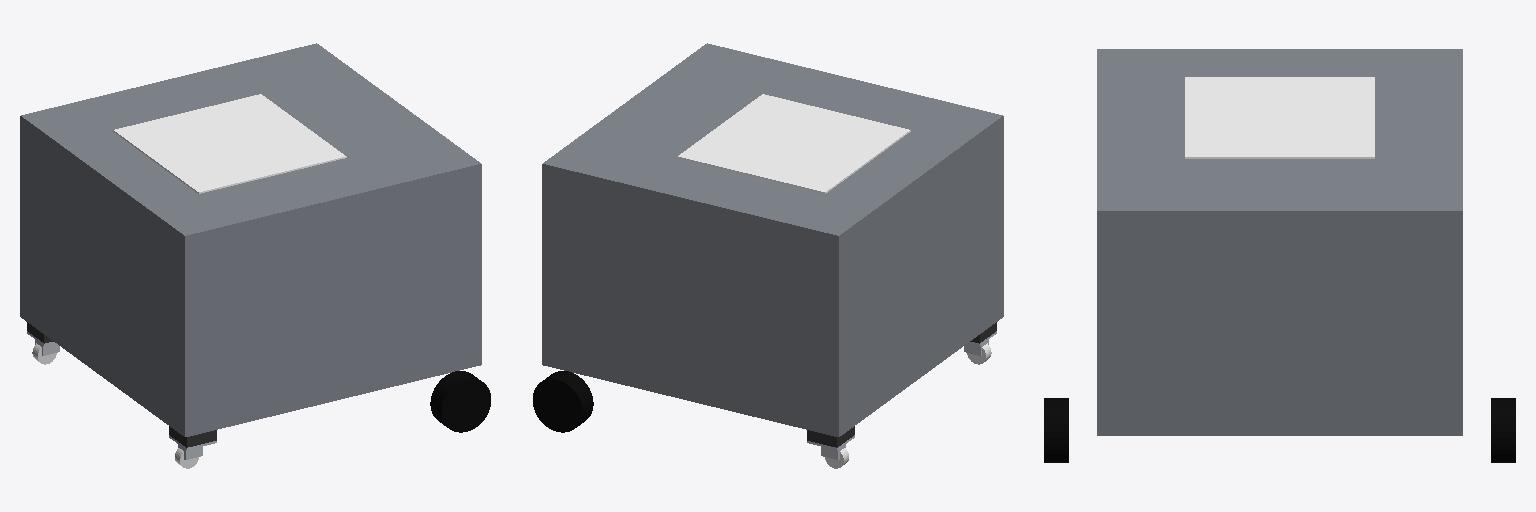
URDF robot description (robot_gom_bong):
<?xml version="1.0"?>
<!--
  Robot gom bong - differential drive, 2 banh chu dong o DAU, 2 banh tu xoay o CUOI.
  Quy uoc ROS: x = tien, y = trai, z = len. Don vi: m, kg, rad.

  base_link dat tren MAT SAN, ngay duoi trung diem truc 2 banh chu dong (= tam xoay).
  => Toa do (x, y, yaw) tu ArUco / odometry chinh la pose cua base_link.

  THONG SO DO THUC TE:
    Than xe        : dai 0.385 (x) x rong 0.37 (y) x cao 0.25
    Tong chieu cao : 0.30 tu mat dat -> day than cach san 0.05
    Banh chu dong  : phi 65 mm (R = 0.0325), rong 0.025
    Khoang cach tam 2 banh (track) L = 0.45 -> banh nam ngoai than, tong be ngang = 0.475

  THONG SO CON GIA DINH (can do lai):
    Truc banh cach mep truoc than 0.05 -> than xe tu x=+0.05 den x=-0.335
    Banh tu xoay co cang: banh phi 25 mm, tong cao 34 mm (do thuc te); gia dinh rong 12 mm, trail 8 mm,
    ke them mieng dem 16 mm duoi de (34 + 16 = 50 mm khe ho gam); de tai x=-0.31, y=+-0.16
    IMU tai (0, 0, 0.08); ArUco 0.192 x 0.192 tren noc, cach truc banh 17 cm ve sau (x = -0.17)
    Khoi luong: than 3.0 kg, moi banh 0.3 kg, moi banh tu xoay 0.05 kg
  R va L phai KHOP voi firmware ESP32 (dong hoc vi sai).
-->
<robot name="robot_gom_bong">

  <material name="body_gray"><color rgba="0.55 0.57 0.60 1"/></material>
  <material name="wheel_black"><color rgba="0.08 0.08 0.08 1"/></material>
  <material name="caster_white"><color rgba="0.90 0.90 0.90 1"/></material>
  <material name="caster_metal"><color rgba="0.75 0.77 0.80 1"/></material>
  <material name="spacer_dark"><color rgba="0.25 0.25 0.25 1"/></material>
  <material name="aruco_white"><color rgba="1 1 1 1"/></material>
  <material name="imu_blue"><color rgba="0.10 0.35 0.80 1"/></material>

  <!-- ===== THAN XE (gan vao base_link, lech ve phia sau tam xoay) ===== -->
  <link name="base_link">
    <visual>
      <origin xyz="-0.1425 0 0.175" rpy="0 0 0"/>
      <geometry><box size="0.385 0.37 0.25"/></geometry>
      <material name="body_gray"/>
    </visual>
    <collision>
      <origin xyz="-0.1425 0 0.175" rpy="0 0 0"/>
      <geometry><box size="0.385 0.37 0.25"/></geometry>
    </collision>
    <inertial>
      <origin xyz="-0.1425 0 0.175" rpy="0 0 0"/>
      <mass value="3.0"/>
      <!-- hop dac: I = m/12 * (a^2 + b^2) -->
      <inertia ixx="0.04985" ixy="0" ixz="0" iyy="0.05268" iyz="0" izz="0.07128"/>
    </inertial>
  </link>

  <!-- ===== BANH CHU DONG TRAI ===== -->
  <link name="left_wheel_link">
    <visual>
      <origin xyz="0 0 0" rpy="1.5708 0 0"/>
      <geometry><cylinder radius="0.0325" length="0.025"/></geometry>
      <material name="wheel_black"/>
    </visual>
    <collision>
      <origin xyz="0 0 0" rpy="1.5708 0 0"/>
      <geometry><cylinder radius="0.0325" length="0.025"/></geometry>
    </collision>
    <inertial>
      <mass value="0.3"/>
      <!-- truc quay = y: Iyy = m r^2 / 2 ; Ixx = Izz = m/12 (3r^2 + h^2) -->
      <inertia ixx="0.0000948" ixy="0" ixz="0" iyy="0.0001584" iyz="0" izz="0.0000948"/>
    </inertial>
  </link>
  <joint name="left_wheel_joint" type="continuous">
    <parent link="base_link"/>
    <child link="left_wheel_link"/>
    <origin xyz="0 0.225 0.0325" rpy="0 0 0"/>
    <axis xyz="0 1 0"/>
    <limit effort="2.0" velocity="25.0"/>
    <dynamics damping="0.01" friction="0.0"/>
  </joint>

  <!-- ===== BANH CHU DONG PHAI ===== -->
  <link name="right_wheel_link">
    <visual>
      <origin xyz="0 0 0" rpy="1.5708 0 0"/>
      <geometry><cylinder radius="0.0325" length="0.025"/></geometry>
      <material name="wheel_black"/>
    </visual>
    <collision>
      <origin xyz="0 0 0" rpy="1.5708 0 0"/>
      <geometry><cylinder radius="0.0325" length="0.025"/></geometry>
    </collision>
    <inertial>
      <mass value="0.3"/>
      <inertia ixx="0.0000948" ixy="0" ixz="0" iyy="0.0001584" iyz="0" izz="0.0000948"/>
    </inertial>
  </link>
  <joint name="right_wheel_joint" type="continuous">
    <parent link="base_link"/>
    <child link="right_wheel_link"/>
    <origin xyz="0 -0.225 0.0325" rpy="0 0 0"/>
    <axis xyz="0 1 0"/>
    <limit effort="2.0" velocity="25.0"/>
    <dynamics damping="0.01" friction="0.0"/>
  </joint>

  <!-- ===== BANH TU XOAY CO CANG (swivel caster) x 2, goc sau duoi than =====
       Caster that: banh phi 25 mm, tong cao 34 mm. Khe ho gam = 50 mm
       -> can mieng dem 16 mm (z = 0.034 .. 0.050) de 4 diem cham cung mat san.
       Moi caster: dem + de (fixed) -> cang (continuous, truc z) -> banh (continuous, truc y).
       Gia dinh: banh rong 12 mm, do lech truc (trail) 8 mm,
       tam de cach mep sau / mep hong 25 mm -> (x=-0.31, y=+-0.16). -->

  <!-- Caster trai -->
  <link name="left_caster_plate">
    <visual>
      <origin xyz="0 0 0.0015" rpy="0 0 0"/>
      <geometry><box size="0.040 0.040 0.003"/></geometry>
      <material name="caster_metal"/>
    </visual>
    <visual>
      <!-- mieng dem 16 mm giua de caster va day than -->
      <origin xyz="0 0 0.011" rpy="0 0 0"/>
      <geometry><box size="0.040 0.040 0.016"/></geometry>
      <material name="spacer_dark"/>
    </visual>
    <inertial>
      <mass value="0.02"/>
      <inertia ixx="1e-6" ixy="0" ixz="0" iyy="1e-6" iyz="0" izz="1e-6"/>
    </inertial>
  </link>
  <joint name="left_caster_plate_joint" type="fixed">
    <parent link="base_link"/>
    <child link="left_caster_plate"/>
    <origin xyz="-0.31 0.16 0.031" rpy="0 0 0"/>
  </joint>

  <link name="left_caster_fork">
    <visual>
      <origin xyz="-0.004 0 -0.009" rpy="0 0 0"/>
      <geometry><box size="0.022 0.018 0.018"/></geometry>
      <material name="caster_metal"/>
    </visual>
    <inertial>
      <origin xyz="-0.004 0 -0.009" rpy="0 0 0"/>
      <mass value="0.02"/>
      <inertia ixx="1e-6" ixy="0" ixz="0" iyy="1e-6" iyz="0" izz="1e-6"/>
    </inertial>
  </link>
  <joint name="left_caster_swivel_joint" type="continuous">
    <parent link="left_caster_plate"/>
    <child link="left_caster_fork"/>
    <origin xyz="0 0 0" rpy="0 0 0"/>
    <axis xyz="0 0 1"/>
    <dynamics damping="0.0005" friction="0.0"/>
  </joint>

  <link name="left_caster_wheel">
    <visual>
      <origin xyz="0 0 0" rpy="1.5708 0 0"/>
      <geometry><cylinder radius="0.0125" length="0.012"/></geometry>
      <material name="caster_white"/>
    </visual>
    <collision>
      <origin xyz="0 0 0" rpy="1.5708 0 0"/>
      <geometry><cylinder radius="0.0125" length="0.012"/></geometry>
    </collision>
    <inertial>
      <mass value="0.02"/>
      <inertia ixx="0.00000102" ixy="0" ixz="0" iyy="0.00000156" iyz="0" izz="0.00000102"/>
    </inertial>
  </link>
  <joint name="left_caster_wheel_joint" type="continuous">
    <parent link="left_caster_fork"/>
    <child link="left_caster_wheel"/>
    <!-- truc banh lech ra sau 8 mm (trail), tam banh o z = 0.0125 so voi san -->
    <origin xyz="-0.008 0 -0.0185" rpy="0 0 0"/>
    <axis xyz="0 1 0"/>
    <dynamics damping="0.0001" friction="0.0"/>
  </joint>

  <!-- Caster phai -->
  <link name="right_caster_plate">
    <visual>
      <origin xyz="0 0 0.0015" rpy="0 0 0"/>
      <geometry><box size="0.040 0.040 0.003"/></geometry>
      <material name="caster_metal"/>
    </visual>
    <visual>
      <!-- mieng dem 16 mm giua de caster va day than -->
      <origin xyz="0 0 0.011" rpy="0 0 0"/>
      <geometry><box size="0.040 0.040 0.016"/></geometry>
      <material name="spacer_dark"/>
    </visual>
    <inertial>
      <mass value="0.02"/>
      <inertia ixx="1e-6" ixy="0" ixz="0" iyy="1e-6" iyz="0" izz="1e-6"/>
    </inertial>
  </link>
  <joint name="right_caster_plate_joint" type="fixed">
    <parent link="base_link"/>
    <child link="right_caster_plate"/>
    <origin xyz="-0.31 -0.16 0.031" rpy="0 0 0"/>
  </joint>

  <link name="right_caster_fork">
    <visual>
      <origin xyz="-0.004 0 -0.009" rpy="0 0 0"/>
      <geometry><box size="0.022 0.018 0.018"/></geometry>
      <material name="caster_metal"/>
    </visual>
    <inertial>
      <origin xyz="-0.004 0 -0.009" rpy="0 0 0"/>
      <mass value="0.02"/>
      <inertia ixx="1e-6" ixy="0" ixz="0" iyy="1e-6" iyz="0" izz="1e-6"/>
    </inertial>
  </link>
  <joint name="right_caster_swivel_joint" type="continuous">
    <parent link="right_caster_plate"/>
    <child link="right_caster_fork"/>
    <origin xyz="0 0 0" rpy="0 0 0"/>
    <axis xyz="0 0 1"/>
    <dynamics damping="0.0005" friction="0.0"/>
  </joint>

  <link name="right_caster_wheel">
    <visual>
      <origin xyz="0 0 0" rpy="1.5708 0 0"/>
      <geometry><cylinder radius="0.0125" length="0.012"/></geometry>
      <material name="caster_white"/>
    </visual>
    <collision>
      <origin xyz="0 0 0" rpy="1.5708 0 0"/>
      <geometry><cylinder radius="0.0125" length="0.012"/></geometry>
    </collision>
    <inertial>
      <mass value="0.02"/>
      <inertia ixx="0.00000102" ixy="0" ixz="0" iyy="0.00000156" iyz="0" izz="0.00000102"/>
    </inertial>
  </link>
  <joint name="right_caster_wheel_joint" type="continuous">
    <parent link="right_caster_fork"/>
    <child link="right_caster_wheel"/>
    <origin xyz="-0.008 0 -0.0185" rpy="0 0 0"/>
    <axis xyz="0 1 0"/>
    <dynamics damping="0.0001" friction="0.0"/>
  </joint>

  <!-- ===== IMU MPU6050 ===== -->
  <link name="imu_link">
    <visual>
      <geometry><box size="0.021 0.016 0.003"/></geometry>
      <material name="imu_blue"/>
    </visual>
    <inertial>
      <mass value="0.005"/>
      <inertia ixx="1e-7" ixy="0" ixz="0" iyy="1e-7" iyz="0" izz="1e-7"/>
    </inertial>
  </link>
  <joint name="imu_joint" type="fixed">
    <parent link="base_link"/>
    <child link="imu_link"/>
    <origin xyz="0 0 0.08" rpy="0 0 0"/>
  </joint>

  <!-- ===== MA ArUco giua noc than xe (khop MARKER_OFFSET_MM trong config.py) ===== -->
  <link name="aruco_link">
    <visual>
      <geometry><box size="0.192 0.192 0.002"/></geometry>
      <material name="aruco_white"/>
    </visual>
    <inertial>
      <mass value="0.01"/>
      <inertia ixx="1e-6" ixy="0" ixz="0" iyy="1e-6" iyz="0" izz="1e-6"/>
    </inertial>
  </link>
  <joint name="aruco_joint" type="fixed">
    <parent link="base_link"/>
    <child link="aruco_link"/>
    <origin xyz="-0.17 0 0.301" rpy="0 0 0"/>
  </joint>

</robot>

--- Facts derived from the render (not from the file) ---
3 views of the same robot in one strip: view 1: azimuth 30°, elevation 25°; view 2: azimuth 150°, elevation 25°; view 3: azimuth 270°, elevation 25° (orthographic).
Model robot_gom_bong with 11 links and 10 joints (6 continuous, 4 fixed), rooted at base_link, posed all joints at 0.
Links seen in each view (by area): view 1: base_link, aruco_link, right_wheel_link, right_caster_plate; view 2: base_link, aruco_link, left_wheel_link, left_caster_plate; view 3: base_link, aruco_link, left_wheel_link, right_wheel_link.
Boxes of the visible links, <box> form: base_link: <box>20,43,481,436</box>; aruco_link: <box>113,94,346,193</box>; right_wheel_link: <box>430,371,490,432</box>; right_caster_plate: <box>169,426,216,449</box>; base_link: <box>542,43,1003,436</box>; aruco_link: <box>677,94,910,193</box>; left_wheel_link: <box>533,371,593,432</box>; left_caster_plate: <box>807,426,854,449</box>; base_link: <box>1097,49,1462,435</box>; aruco_link: <box>1185,77,1374,158</box>; left_wheel_link: <box>1491,398,1515,462</box>; right_wheel_link: <box>1044,398,1068,462</box>.
Bounding box of the posed robot: 0.385 × 0.475 × 0.302 m (x, y, z).
Geometry: primitives only (box / cylinder / sphere), no mesh files.
